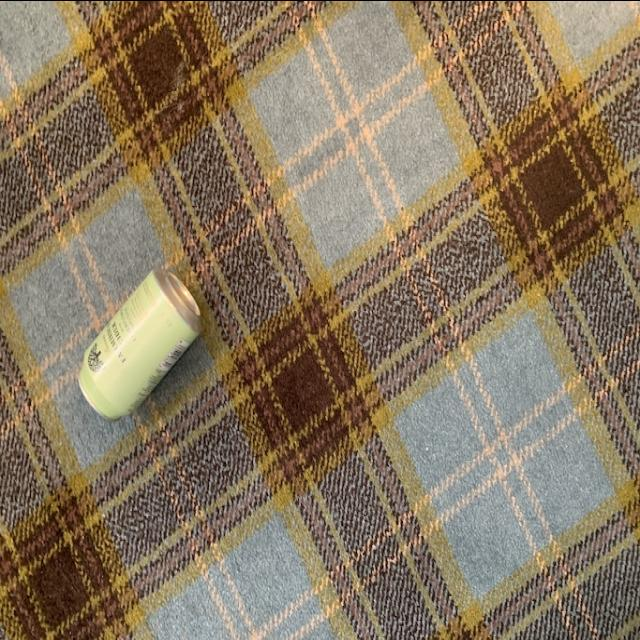litter: (76, 260, 208, 420)
